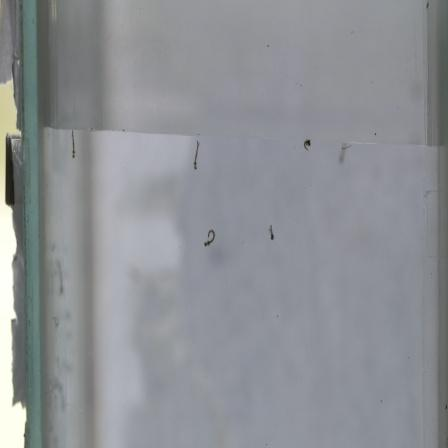Jentik-Nyamuk: (198, 225, 219, 252), (189, 136, 204, 173), (66, 127, 78, 165), (299, 136, 316, 153), (266, 221, 277, 242)
